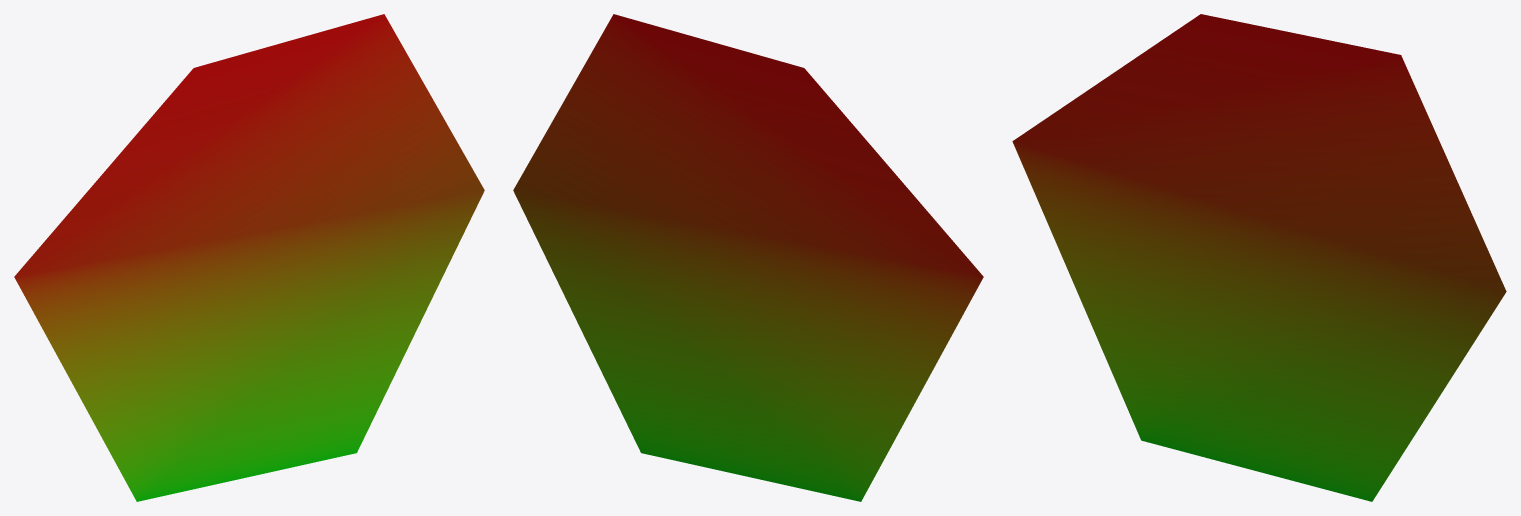
Rendered from Var3_LOD3.fbx.
3 renders of one model, left to right at view 1: azimuth 30°, elevation 25°; view 2: azimuth 150°, elevation 25°; view 3: azimuth 330°, elevation 25°, orthographic. The views are drawn at different scales.
Visible parts, largest first — view 1: _e392_Var3_LOD3; view 2: _e392_Var3_LOD3; view 3: _e392_Var3_LOD3.
Boxes of the visible parts, x1,y1,x2,y2 form: _e392_Var3_LOD3: (14,14,484,501); _e392_Var3_LOD3: (513,14,983,501); _e392_Var3_LOD3: (1012,14,1506,501).
Bounding box in the file's own units: 55.9 × 49.07 × 5.01e-06.
